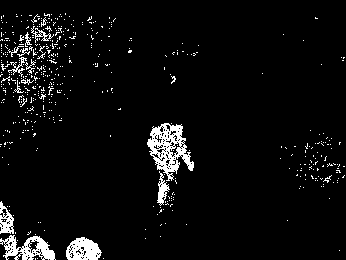person: (133, 124, 201, 218)
